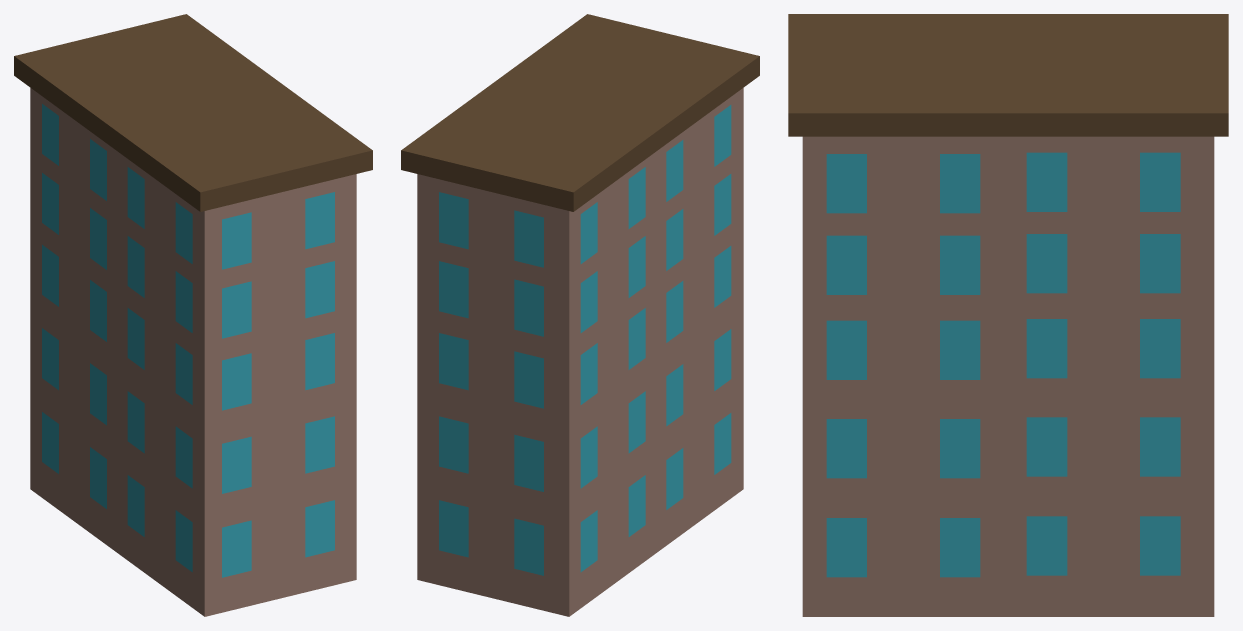
File: Housse.fbx
3 views of the same model, side by side, from view 1: azimuth 30°, elevation 25°; view 2: azimuth 150°, elevation 25°; view 3: azimuth 270°, elevation 25° (orthographic). The views are drawn at different scales.
Parts seen in each view (by area): view 1: Group1; view 2: Group1; view 3: Group1.
Boxes of the visible parts, left/top/right/bottom form: Group1: left=14, top=14, right=372, bottom=616; Group1: left=401, top=14, right=759, bottom=616; Group1: left=788, top=14, right=1228, bottom=616.
Size of the model in its own units: 9.18 by 21.96 by 17.18.
